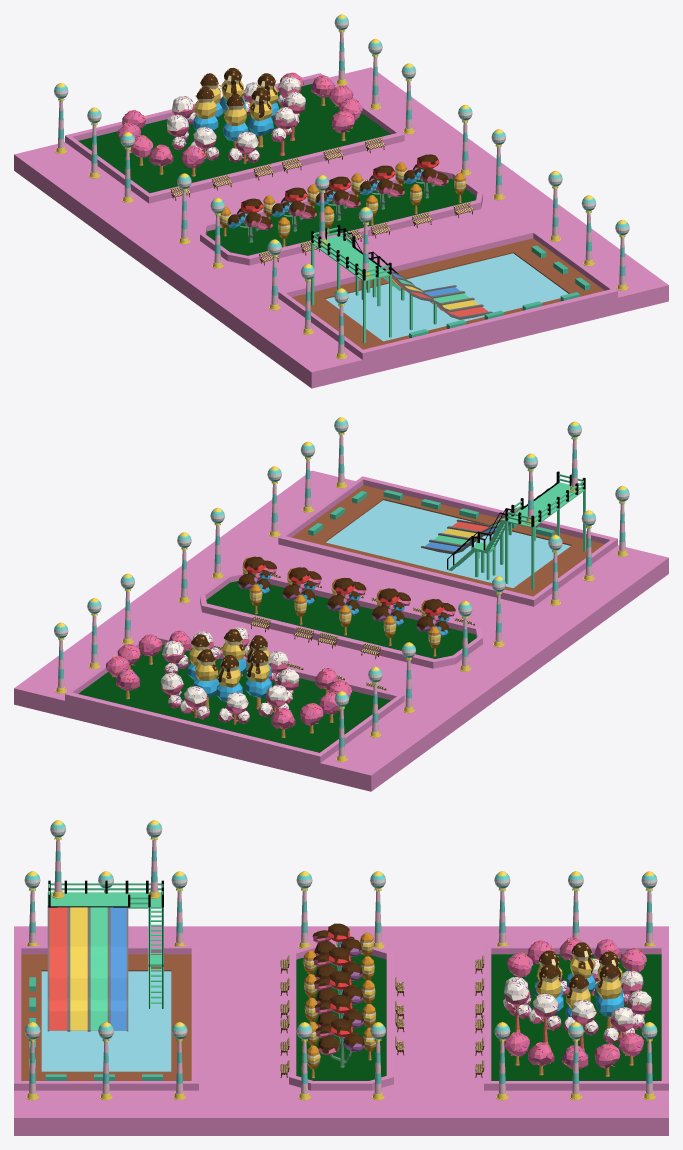
Rendered from D2_rainbow_slide.fbx.
The picture shows the model from 3 angles, top to bottom: view 1: azimuth 30°, elevation 25°; view 2: azimuth 150°, elevation 25°; view 3: azimuth 270°, elevation 25°; orthographic projection. The views are drawn at different scales.
Visible parts, largest first — view 1: Сфера, Tree_stem_01.063, Cylinder.038, Tree_stem_01.037, Cylinder.037, Tree_stem_01.048, Tree_stem_01.047, Tree_stem_01.056, Tree_stem_01.036, Tree_stem_01.045, Tree_stem_01.055, Tree_stem_01.054; view 2: Сфера, Tree_stem_01.063, Tree_stem_01.047, Tree_stem_01.045, Tree_stem_01.046, Cylinder.048, Tree_stem_01.053, Tree_stem_01.052, Tree_stem_01.050, Tree_stem_01.054, Tree_stem_01.037, Tree_stem_01.051; view 3: Сфера, Tree_stem_01.063, Tree_stem_01.045, Tree_stem_01.049, Tree_stem_01.036, Tree_stem_01.047, Tree_stem_01.050, Tree_stem_01.051, Cylinder.038, Tree_stem_01.037, Cylinder.037, Tree_stem_01.044 (+8 smaller).
Part boxes in pixels (x1,y1,x2,y2): Сфера: (14,14,668,388); Tree_stem_01.063: (219,154,466,246); Cylinder.038: (170,137,385,200); Tree_stem_01.037: (248,87,273,147); Cylinder.037: (259,202,473,265); Tree_stem_01.048: (223,93,248,147); Tree_stem_01.047: (193,86,218,131); Tree_stem_01.056: (228,131,259,163); Tree_stem_01.036: (271,107,295,155); Tree_stem_01.045: (220,68,245,113); Tree_stem_01.055: (190,127,219,160); Tree_stem_01.054: (166,114,189,150); Сфера: (14,417,668,791); Tree_stem_01.063: (238,556,455,656); Tree_stem_01.047: (245,649,271,709); Tree_stem_01.045: (193,649,219,708); Tree_stem_01.046: (216,654,242,701); Cylinder.048: (250,616,380,659); Tree_stem_01.053: (218,692,249,724); Tree_stem_01.052: (180,685,209,719); Tree_stem_01.050: (162,640,188,673); Tree_stem_01.054: (258,685,288,716); Tree_stem_01.037: (220,629,246,675); Tree_stem_01.051: (160,672,183,708); Сфера: (14,820,668,1135); Tree_stem_01.063: (303,923,375,1078); Tree_stem_01.045: (595,963,623,1028); Tree_stem_01.049: (529,993,561,1044); Tree_stem_01.036: (503,980,531,1032); Tree_stem_01.047: (567,942,595,992); Tree_stem_01.050: (563,1000,598,1050); Tree_stem_01.051: (603,1007,635,1043); Cylinder.038: (475,955,484,1077); Tree_stem_01.037: (536,963,563,1029); Cylinder.037: (280,955,289,1077); Tree_stem_01.044: (564,974,590,1039).
Size of the model in its own units: 4732 by 1884 by 6830.
35 materials, 2 textured.
